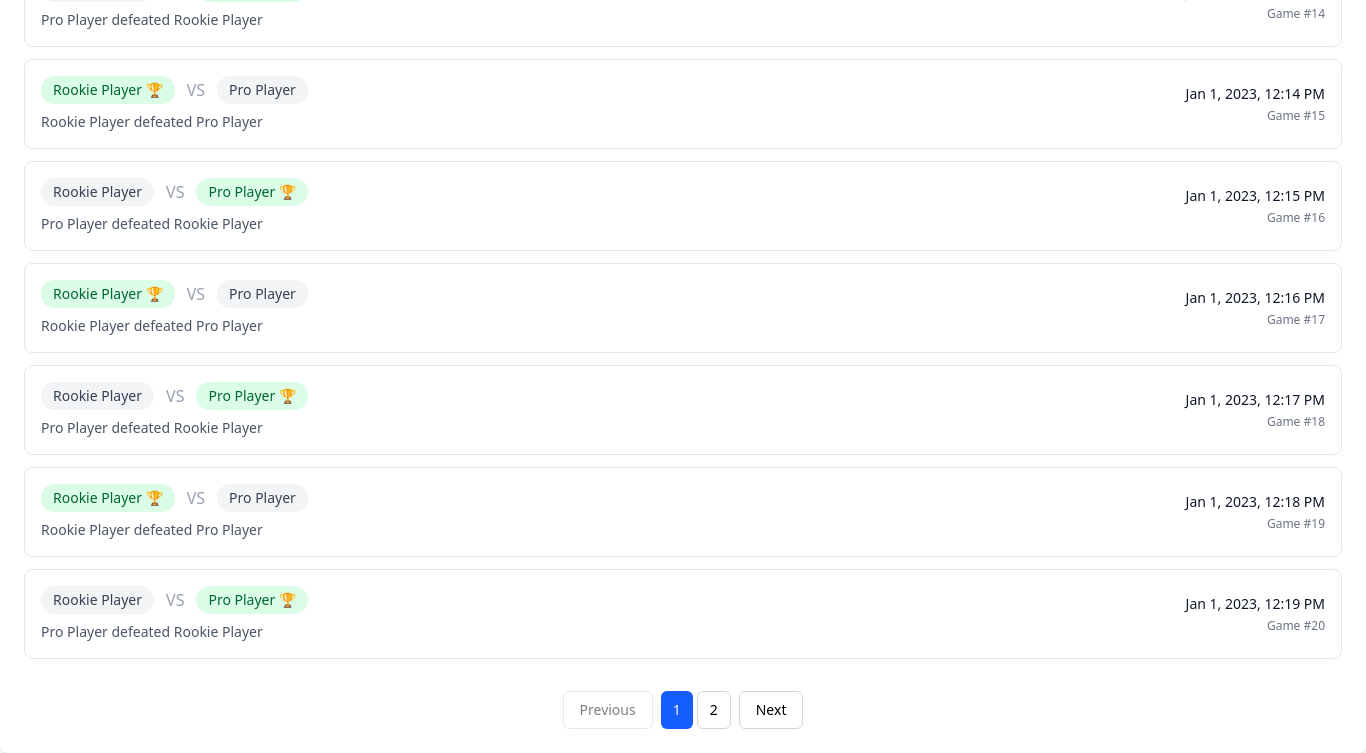
Test: GameHistory Integration Tests › Player Filtering › resets to page 1 when filter changes
(page scrolled)
// Go to page 2
Click the button "Next".
click(771, 710)  # box [739,691,803,729]
(page scrolled)
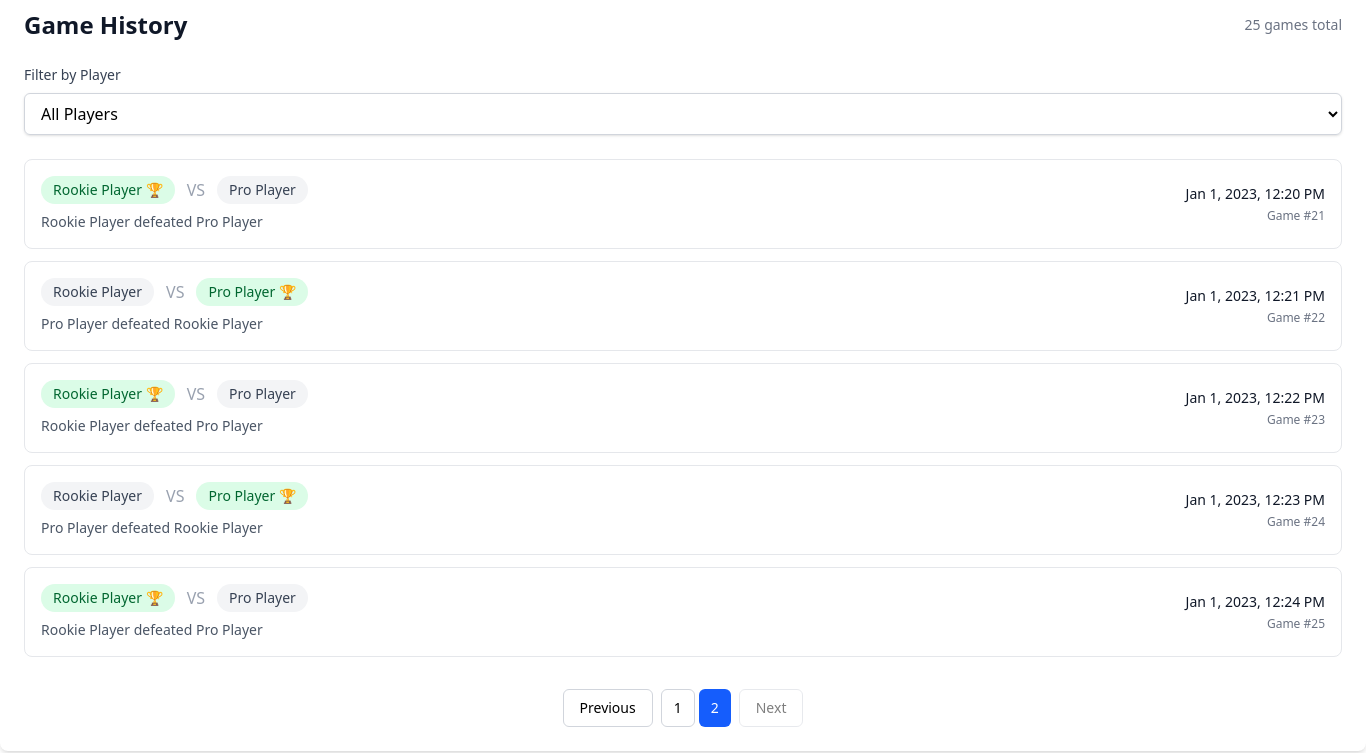
Now the button "2" has class "bg-blue-600", box [699,689,731,727]
// Change filter
Select "Rookie Player" in the dropdown labelled "Filter by Player" at (683, 114), box [24,93,1342,135]
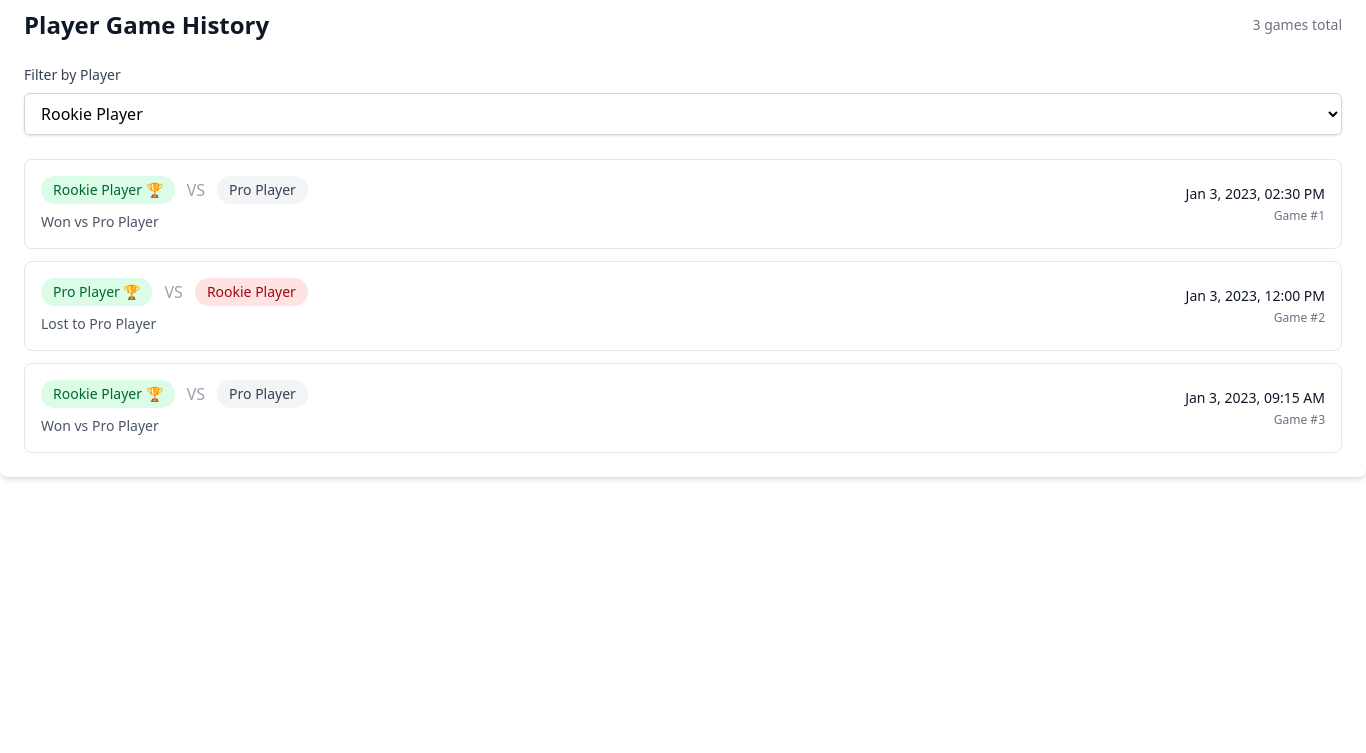
Expected: the text "3 games total" is shown, [1252,15,1342,35]
Now the button "Previous" is gone
